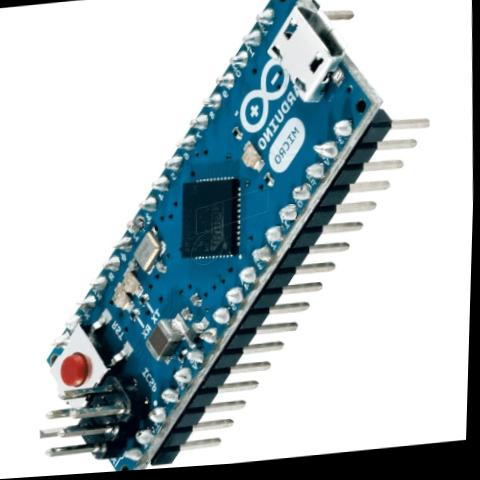Arduino-Micro: (25, 0, 444, 478)
